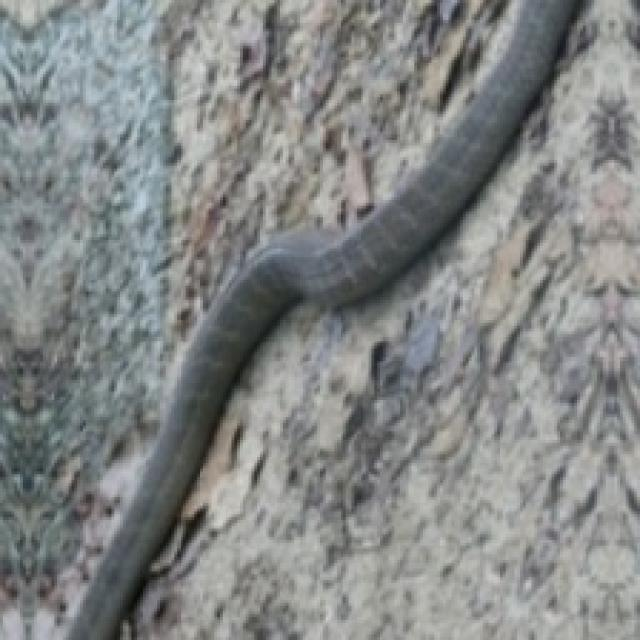king cobra: (126, 0, 637, 637), (163, 0, 506, 369)
